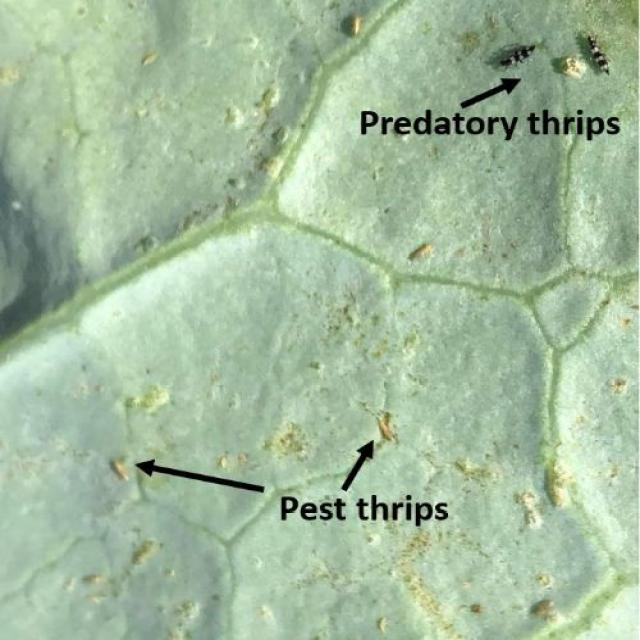Thrip-Adult-: (580, 24, 619, 82), (488, 39, 544, 72)
Thrip-Larva-: (402, 241, 434, 269), (136, 50, 166, 67), (373, 615, 393, 634), (350, 12, 362, 37)
